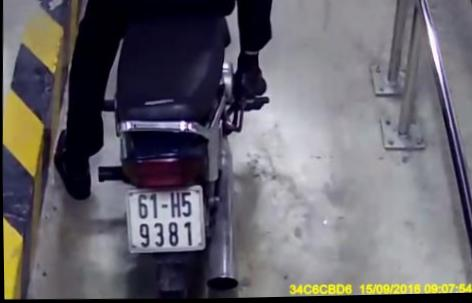LP: (120, 182, 209, 256)
